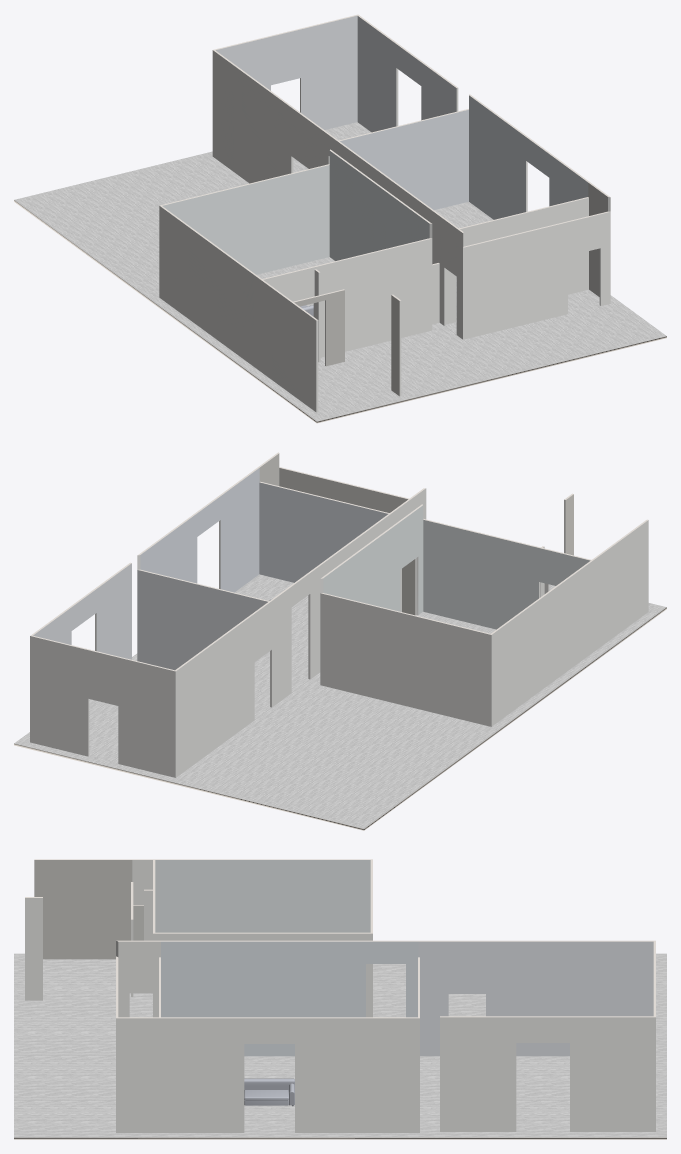
File: museum2.glb
The picture shows the model from 3 angles, top to bottom: view 1: azimuth 30°, elevation 25°; view 2: azimuth 150°, elevation 25°; view 3: azimuth 270°, elevation 25°; orthographic projection. The views are drawn at different scales.
Parts seen in each view (by area): view 1: floor_0, wall_14, wall_6, wall_0, wall_8, wall_11, wall_2, wall_4, wall_1, wall_9, wall_3, wall_5 (+2 smaller); view 2: floor_0, wall_8, wall_6, wall_14, wall_2, wall_11, wall_4, wall_1, wall_5, wall_9, wall_3, wall_0 (+2 smaller); view 3: wall_6, floor_0, wall_4, wall_14, wall_3, wall_9, wall_15, object_0, wall_12.
Boxes of the visible parts, x1,y1,x2,y2 form: floor_0: [14, 122, 666, 423]; wall_14: [159, 205, 318, 412]; wall_6: [212, 50, 463, 339]; wall_0: [463, 211, 610, 339]; wall_8: [160, 164, 329, 274]; wall_11: [262, 238, 432, 357]; wall_2: [213, 14, 357, 129]; wall_4: [469, 94, 610, 296]; wall_1: [339, 109, 468, 209]; wall_9: [329, 149, 432, 260]; wall_3: [357, 14, 458, 132]; wall_5: [446, 197, 588, 324]; floor_0: [14, 574, 666, 830]; wall_8: [320, 593, 491, 726]; wall_6: [175, 488, 426, 777]; wall_14: [491, 519, 648, 726]; wall_2: [30, 635, 175, 777]; wall_11: [423, 519, 591, 629]; wall_4: [137, 452, 279, 592]; wall_1: [137, 569, 268, 670]; wall_5: [259, 481, 389, 582]; wall_9: [320, 504, 423, 614]; wall_3: [30, 562, 131, 659]; wall_0: [279, 467, 408, 512]; wall_6: [116, 940, 654, 1056]; floor_0: [14, 953, 666, 1139]; wall_4: [116, 1017, 419, 1132]; wall_14: [34, 859, 371, 959]; wall_3: [440, 1016, 655, 1131]; wall_9: [153, 932, 372, 1017]; wall_15: [25, 897, 42, 1000]; object_0: [244, 1078, 294, 1106]; wall_12: [144, 889, 152, 940].
Bounding box in the file's own units: 19.62 × 5.8 × 29.41.
78 materials, 1 textured.
